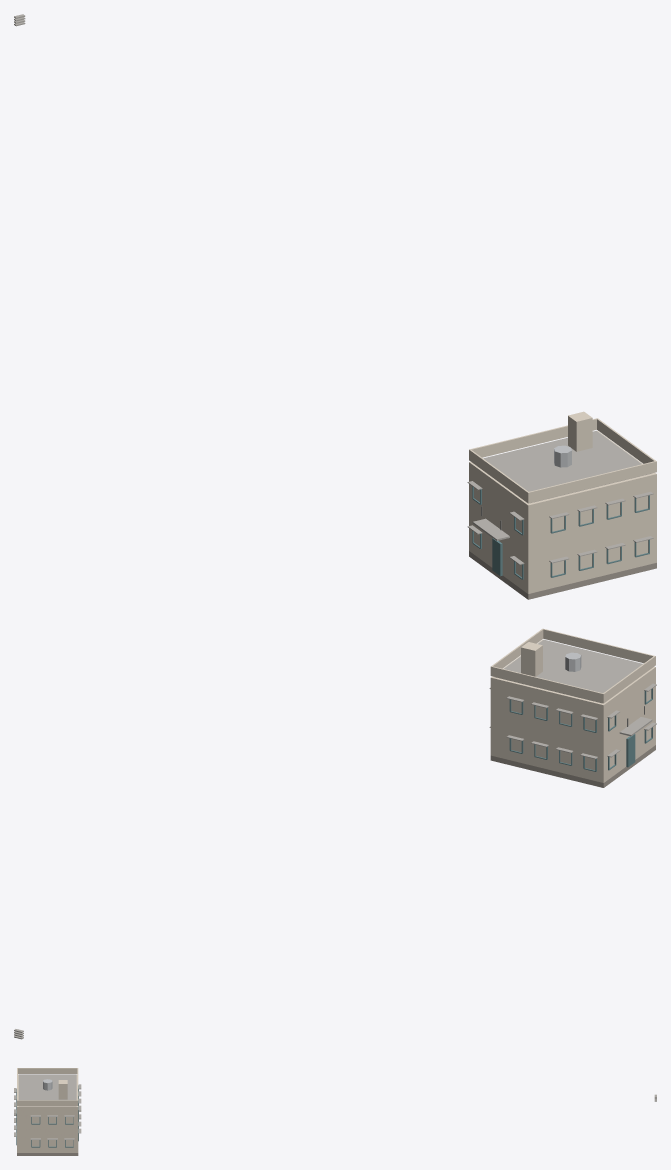
File: urban.glb
3 renders of one model, top to bottom at view 1: azimuth 30°, elevation 25°; view 2: azimuth 150°, elevation 25°; view 3: azimuth 270°, elevation 25°, orthographic. The views are drawn at different scales.
Visible parts, largest first — view 1: lib_urban; view 2: lib_urban; view 3: lib_urban.
Boxes of the visible parts, bbox=[...] form: lib_urban: bbox=[14, 14, 656, 599]; lib_urban: bbox=[14, 628, 656, 1039]; lib_urban: bbox=[14, 1068, 656, 1155].
Bounding box in the file's own units: 11.31 × 9.31 × 82.49.
